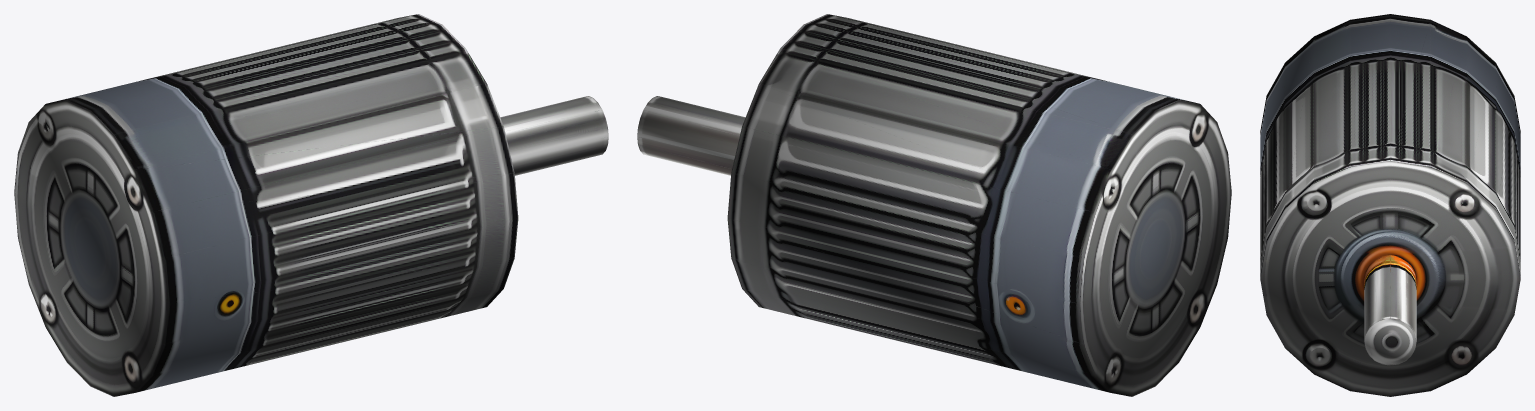
The model's file is Meshy_AI__0509080752_texture.fbx.
3 renders of one model, left to right at view 1: azimuth 30°, elevation 25°; view 2: azimuth 150°, elevation 25°; view 3: azimuth 270°, elevation 25°, orthographic. The views are drawn at different scales.
Visible parts, largest first — view 1: Mesh_0; view 2: Mesh_0; view 3: Mesh_0.
Boxes of the visible parts, x1,y1,x2,y2 form: Mesh_0: (14, 14, 608, 396); Mesh_0: (637, 14, 1231, 396); Mesh_0: (1260, 14, 1520, 396).
Size of the model in its own units: 191 by 100 by 100.
Materials: 1 (1 with a texture image).
